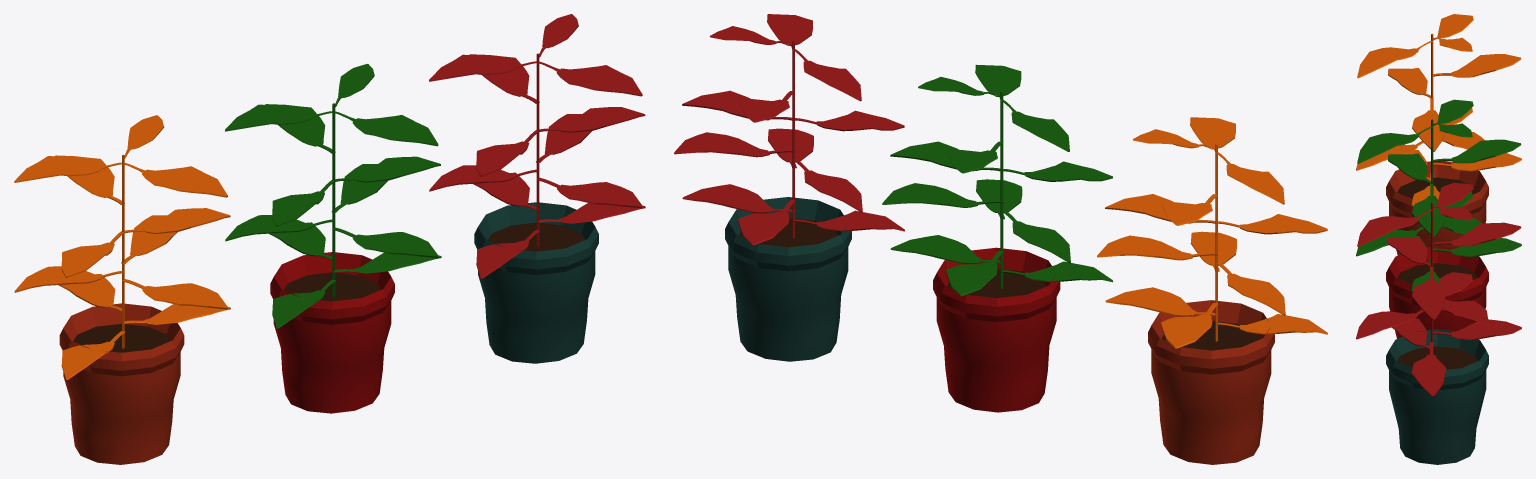
Rendered from HousePlant_433.obj.
The picture shows the model from 3 angles, left to right: view 1: azimuth 30°, elevation 25°; view 2: azimuth 150°, elevation 25°; view 3: azimuth 270°, elevation 25°; orthographic projection. The views are drawn at different scales.
Parts seen in each view (by area): view 1: Cylinder001, Cylinder002, Cylinder003, Cylinder_001, Cylinder_002, Cylinder_003; view 2: Cylinder001, Cylinder002, Cylinder003, Cylinder_001, Cylinder_003, Cylinder_002; view 3: Cylinder002, Cylinder_002, Cylinder_001, Cylinder_003, Cylinder001, Cylinder003.
Part boxes in pixels (box(x1,y1,x2,y2)): Cylinder001: box(270, 252, 394, 413); Cylinder002: box(474, 202, 598, 363); Cylinder003: box(59, 303, 184, 464); Cylinder_001: box(225, 64, 441, 328); Cylinder_002: box(429, 14, 645, 278); Cylinder_003: box(14, 115, 230, 379); Cylinder001: box(933, 247, 1060, 412); Cylinder002: box(725, 197, 851, 361); Cylinder003: box(1148, 300, 1274, 464); Cylinder_001: box(882, 64, 1112, 296); Cylinder_003: box(1097, 117, 1327, 348); Cylinder_002: box(674, 14, 904, 245); Cylinder002: box(1386, 329, 1488, 464); Cylinder_002: box(1356, 182, 1521, 397); Cylinder_001: box(1356, 99, 1521, 291); Cylinder_003: box(1356, 14, 1521, 206); Cylinder001: box(1386, 246, 1488, 338); Cylinder003: box(1386, 161, 1488, 255).
Bounding box in the file's own units: 91.66 × 43.42 × 25.86.
